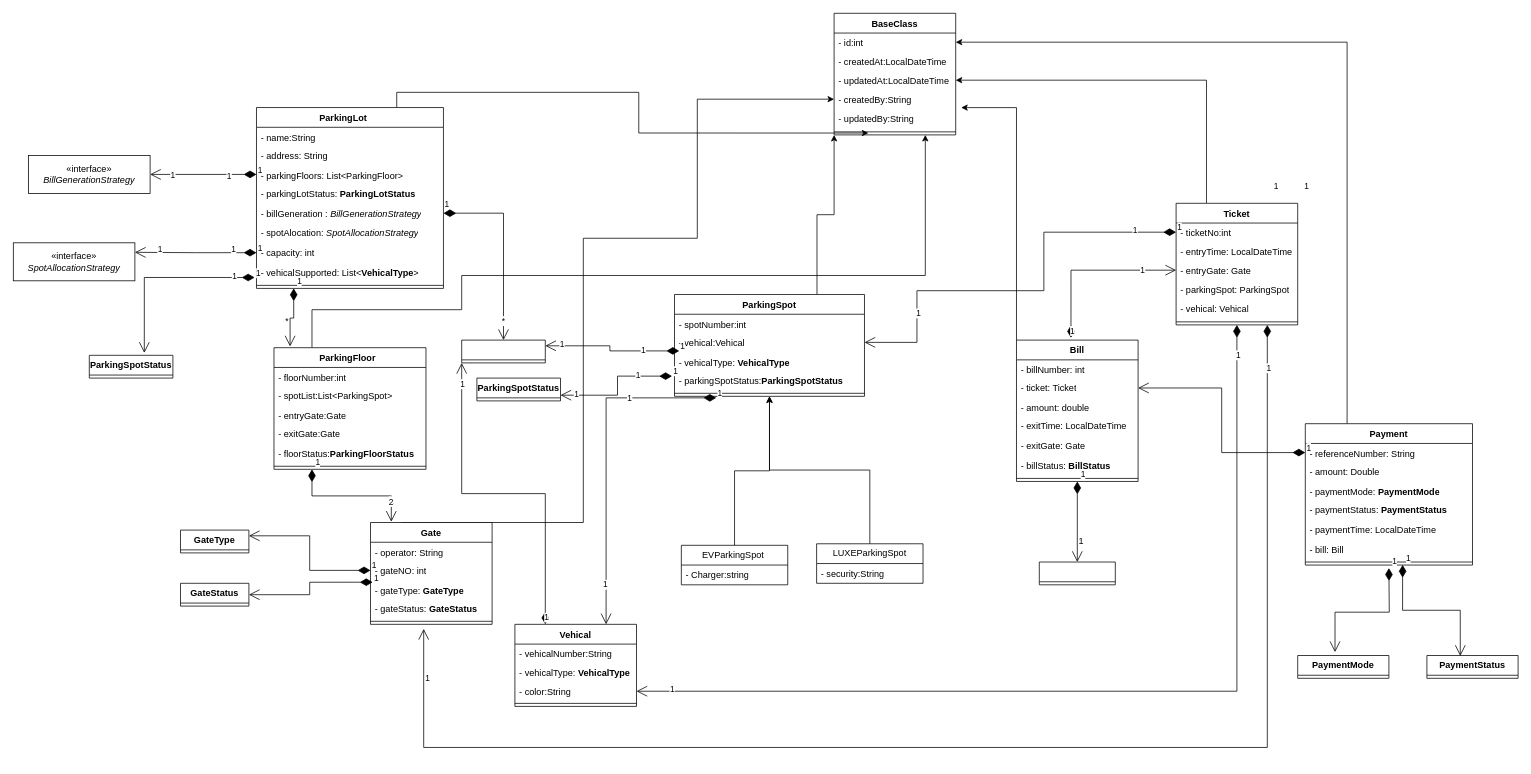
The diagram is 1531 pixels wide and 774 high, and some of its shapes have lost their labels. Each missing label, with the centre of its shape:
BillStatus: the point at 1077,573
VehicalType: the point at 503,351
